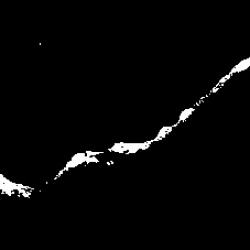crack: (53, 60, 247, 183), (0, 173, 35, 201)
pinhole: (33, 39, 44, 52)
